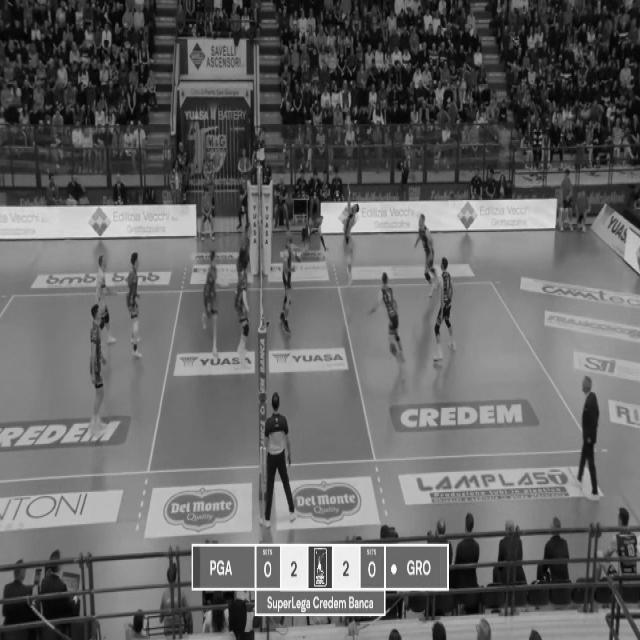volleyball court: (0, 281, 589, 479)
